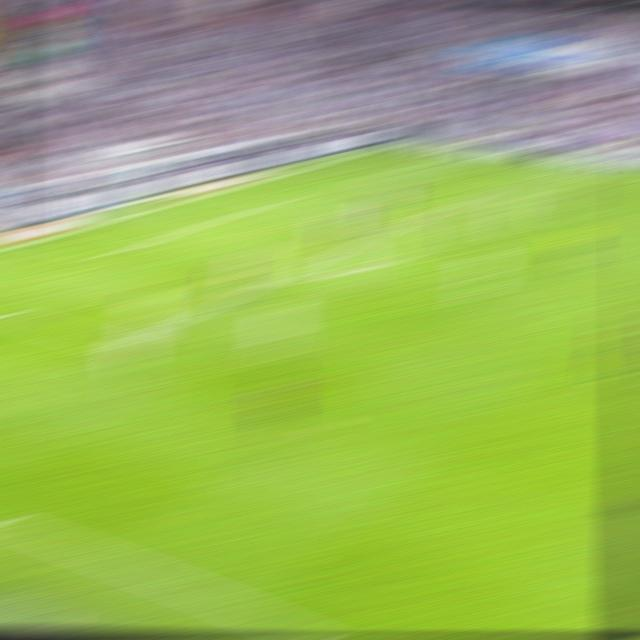bigarea_bottom_inner: (105, 338, 135, 353)
bigarea_top_inner: (466, 191, 493, 198)
corner: (369, 142, 398, 150)
top_arc_area_intersection: (386, 221, 416, 232)
